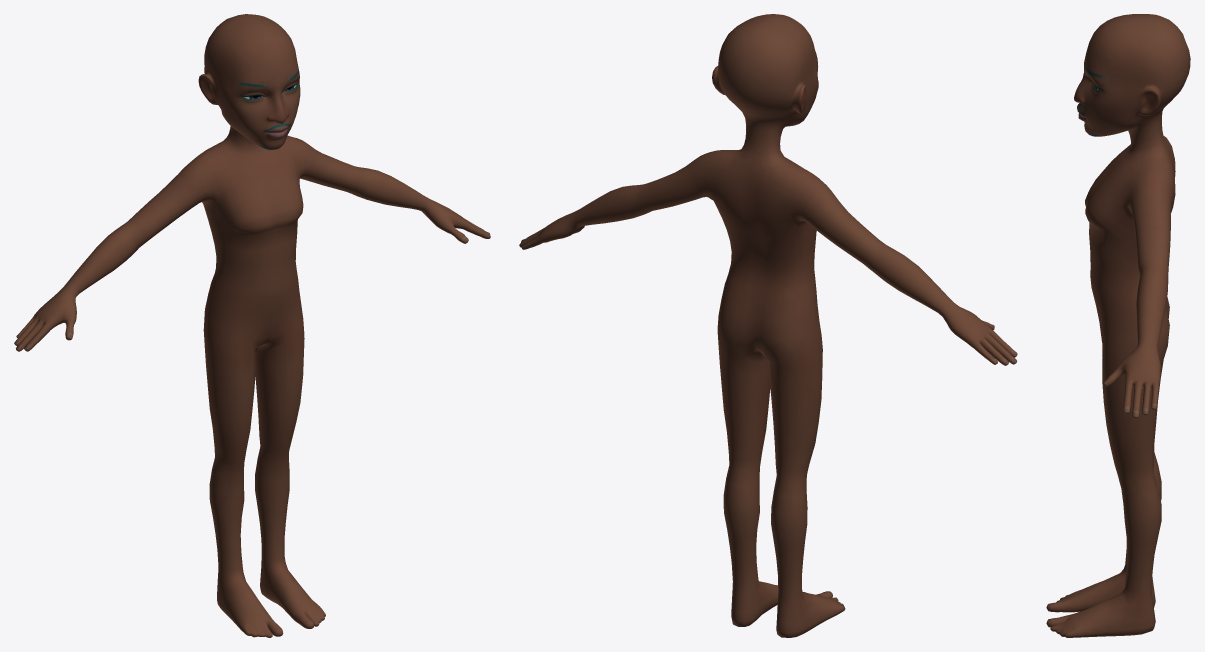
File: frame_0005.glb
3 renders of one model, left to right at view 1: azimuth 30°, elevation 25°; view 2: azimuth 150°, elevation 25°; view 3: azimuth 270°, elevation 25°, orthographic. The views are drawn at different scales.
Visible parts, largest first — view 1: frame_0005_head_geo; view 2: frame_0005_head_geo; view 3: frame_0005_head_geo.
Part boxes in pixels (x1,y1,x2,y2): frame_0005_head_geo: [14, 14, 490, 637]; frame_0005_head_geo: [519, 14, 1017, 637]; frame_0005_head_geo: [1046, 14, 1190, 637].
Bounding box in the file's own units: 1.28 × 1.5 × 0.3253.
Materials: 3 (3 with a texture image).
